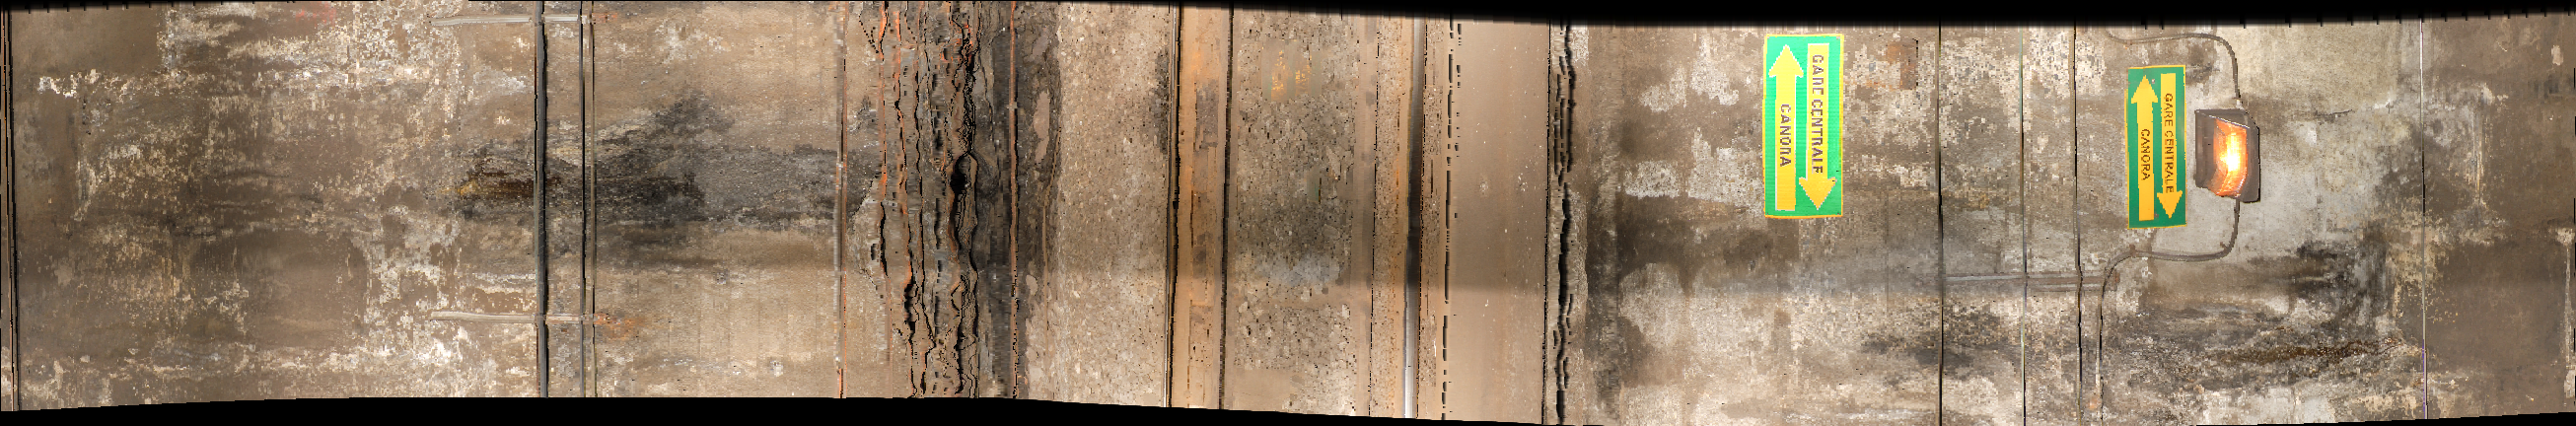light: (2195, 105, 2264, 209)
pipes: (830, 7, 1028, 426), (2012, 21, 2088, 426), (532, 2, 606, 396), (1930, 39, 1955, 426)
sign: (1766, 35, 1847, 219), (2128, 61, 2190, 234)
tracks: (1176, 5, 1449, 426)
